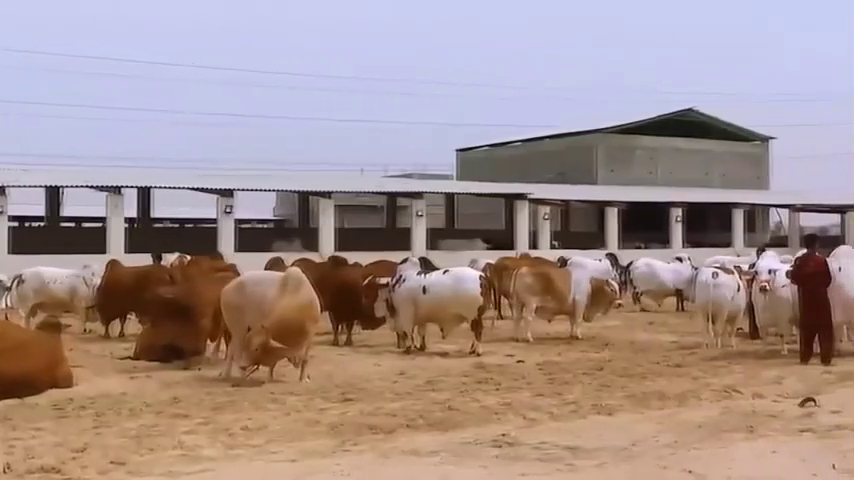bo: (213, 257, 323, 395), (270, 240, 388, 360), (370, 265, 504, 367), (513, 262, 623, 353), (7, 247, 102, 339), (89, 245, 174, 339), (136, 279, 219, 373), (684, 249, 749, 359), (737, 246, 800, 359), (2, 311, 77, 397), (620, 245, 694, 320), (817, 232, 854, 356)
